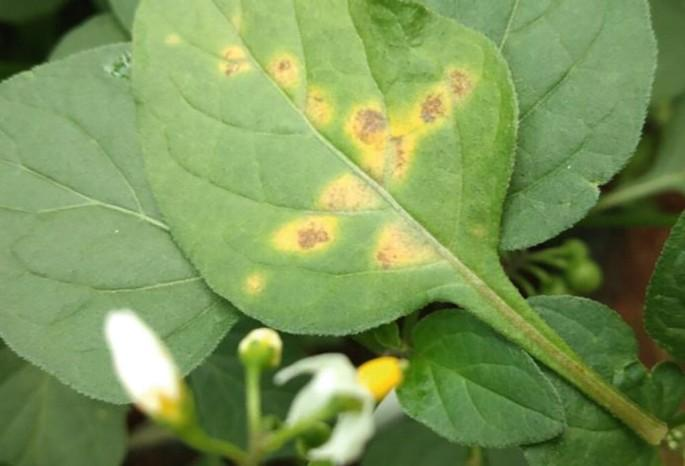leaf_spot: (98, 52, 587, 374)
